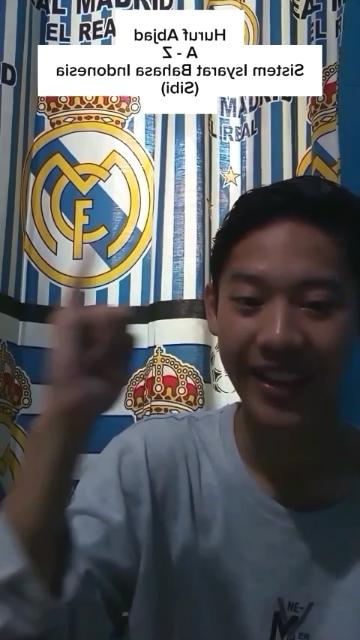J: (38, 241, 150, 417)
